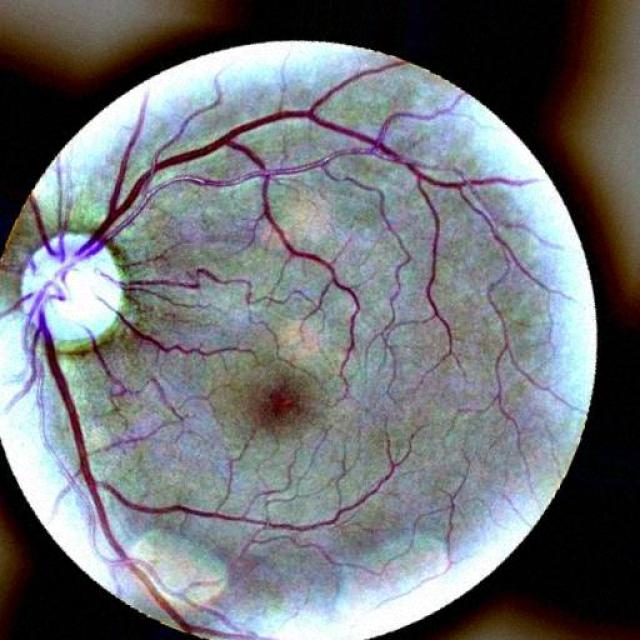Macula: (249, 375, 312, 444)
Nerves: (0, 60, 535, 639)
Optic Disk: (20, 232, 125, 349)
